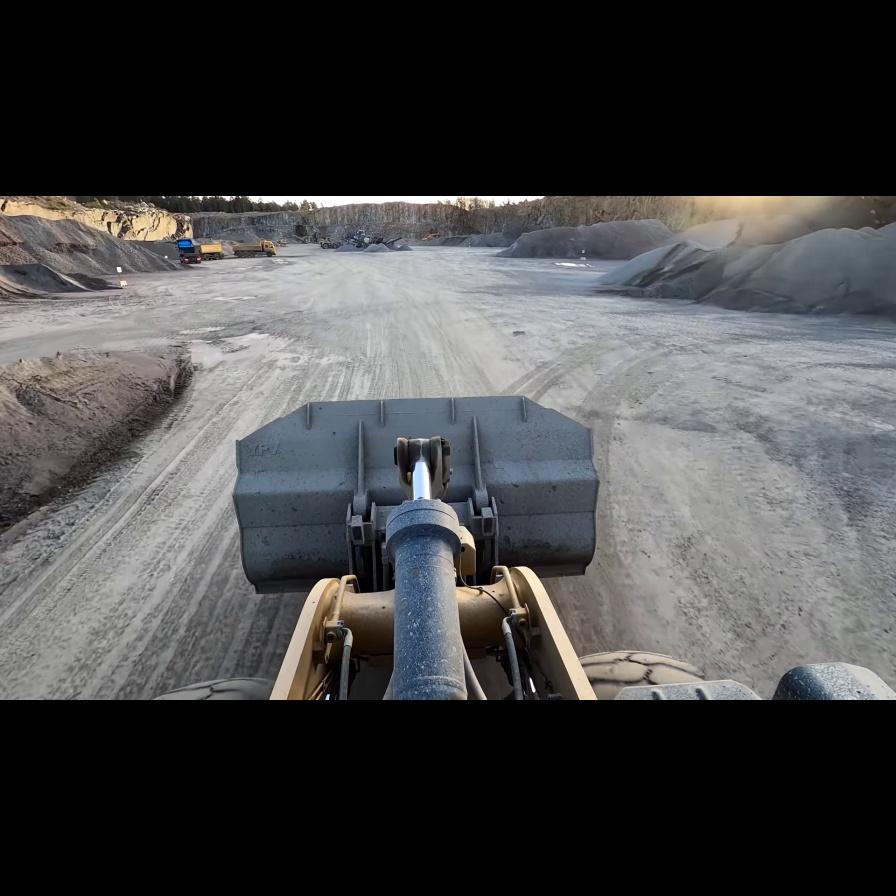anchor: (394, 436, 450, 500)
pile of gravel: (1, 329, 201, 533), (590, 213, 896, 316), (2, 212, 178, 295), (501, 219, 675, 260), (592, 239, 723, 292), (716, 206, 880, 247), (454, 230, 514, 248), (430, 235, 471, 247), (361, 240, 396, 252), (387, 238, 413, 251), (333, 244, 364, 253)
